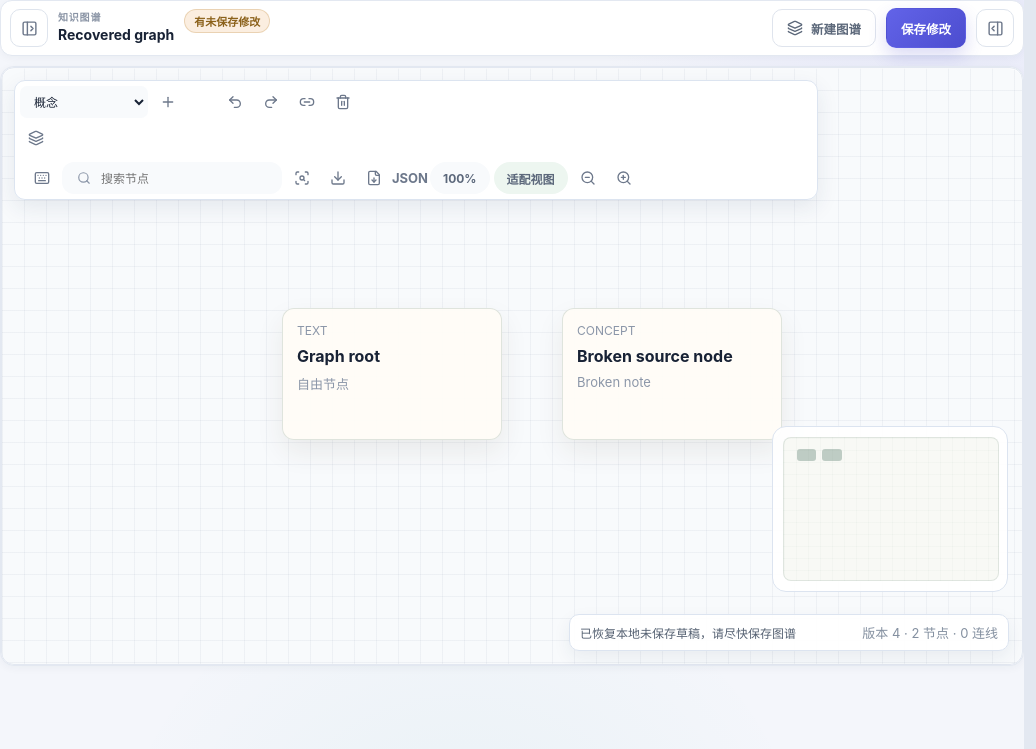
Test: GraphWorkspacePage conflict dependency guard › surfaces linked keep-latest guidance for invalid local node sources
Click the button "保存修改" at point(926, 28), box [886, 8, 966, 48]
(page scrolled)
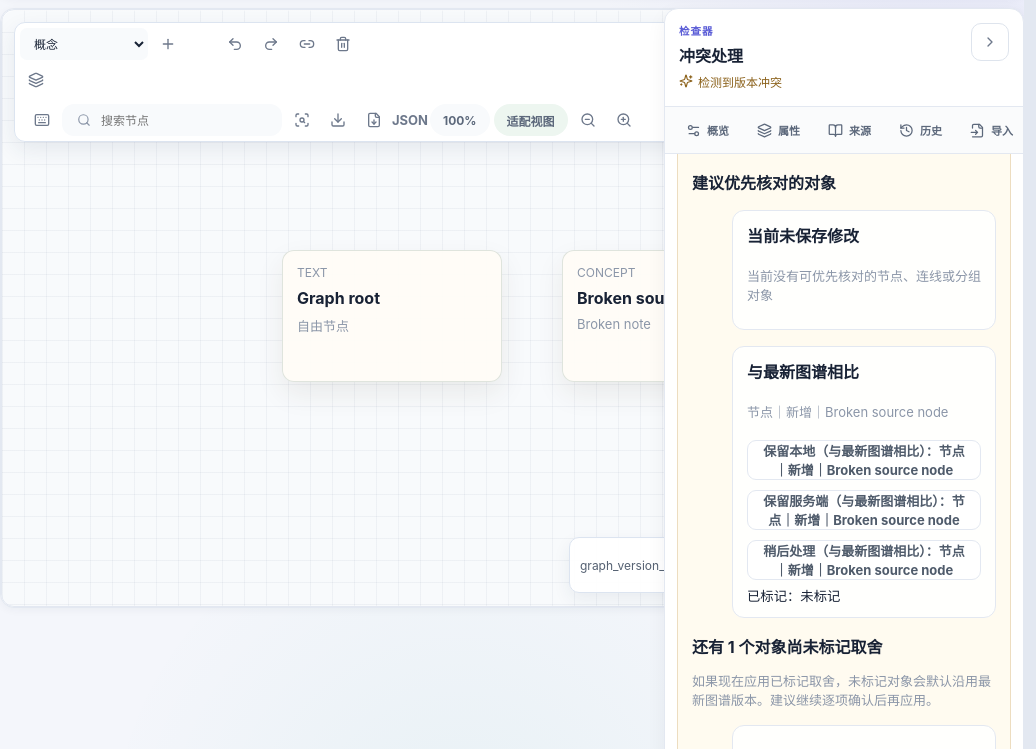
Click the button "保留本地（与最新图谱相比）：节点｜新增｜Broken source node" at point(864, 460), box [747, 440, 981, 480]
(page scrolled)
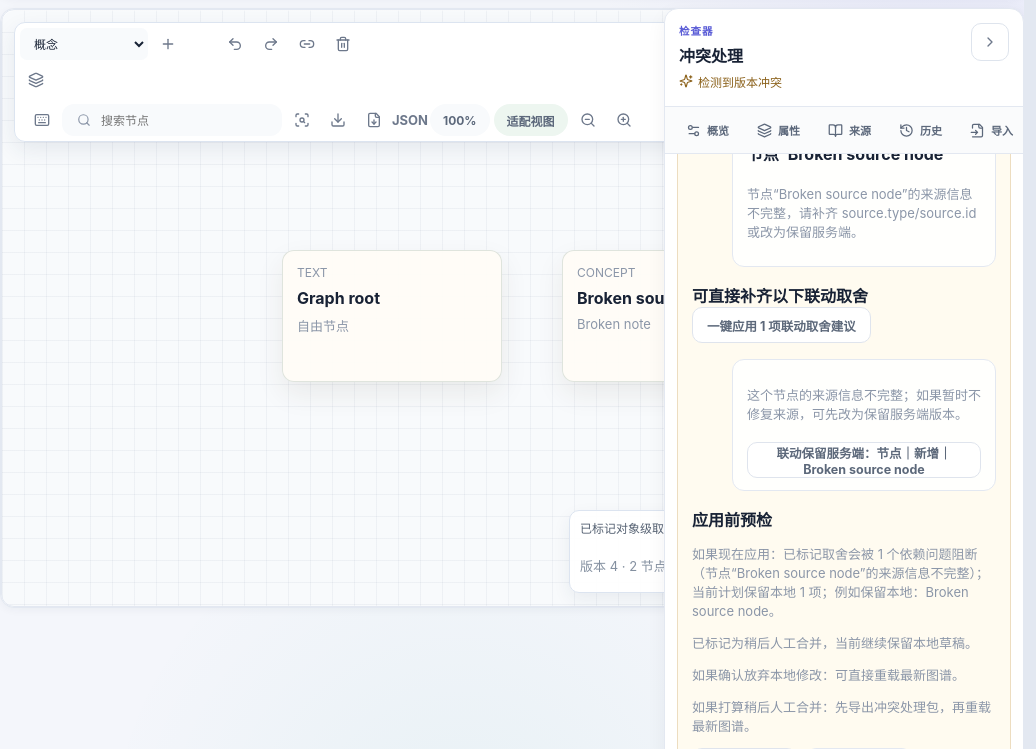
Click the button "联动保留服务端：节点｜新增｜Broken source node" at point(864, 460), box [747, 442, 981, 478]
(page scrolled)
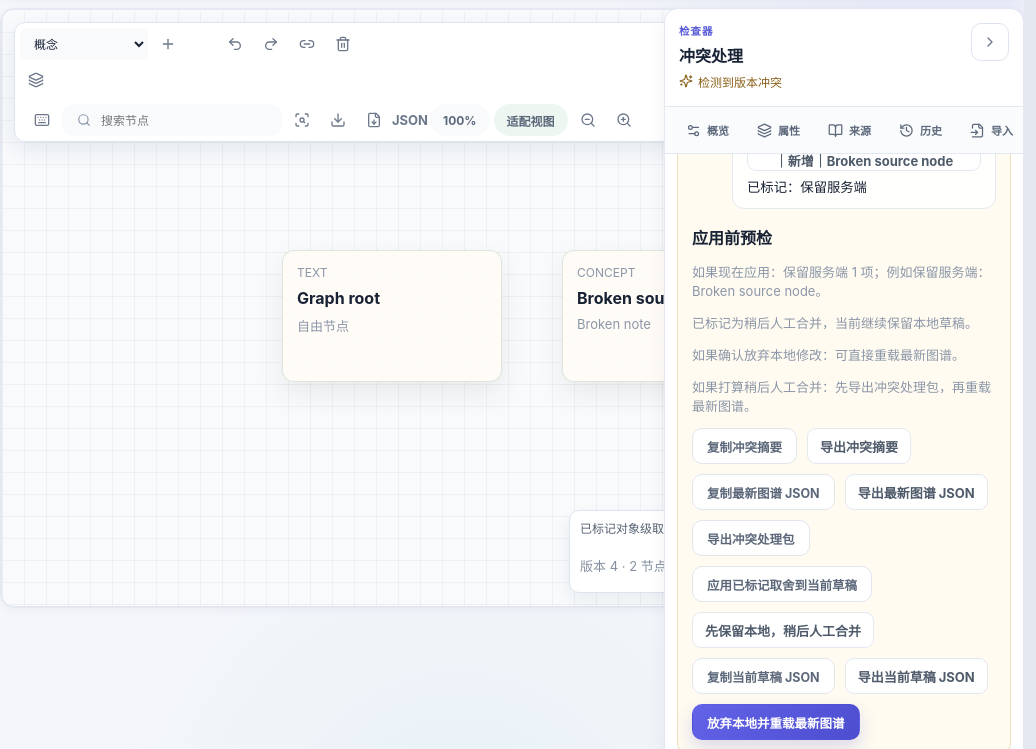
Check: the field labelled "取舍依赖校验问题" is gone
Check: the button labelled "联动取舍建议" is gone
Check: the button "应用已标记取舍到当前草稿" is enabled, box [692, 566, 872, 602]
